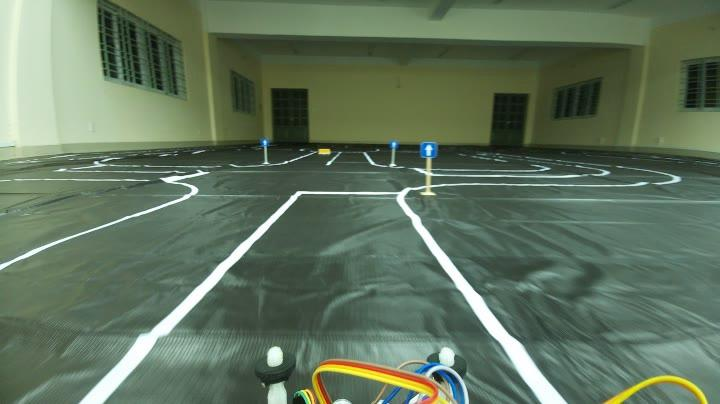onewayroad: (420, 139, 436, 159), (258, 138, 273, 150), (388, 138, 396, 148)
roadblock: (315, 145, 333, 157)
